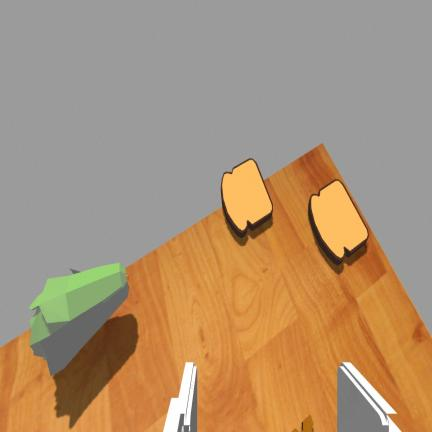lettuce: (29, 263, 128, 375)
sliced_bread: (309, 180, 368, 263), (221, 158, 272, 236)
